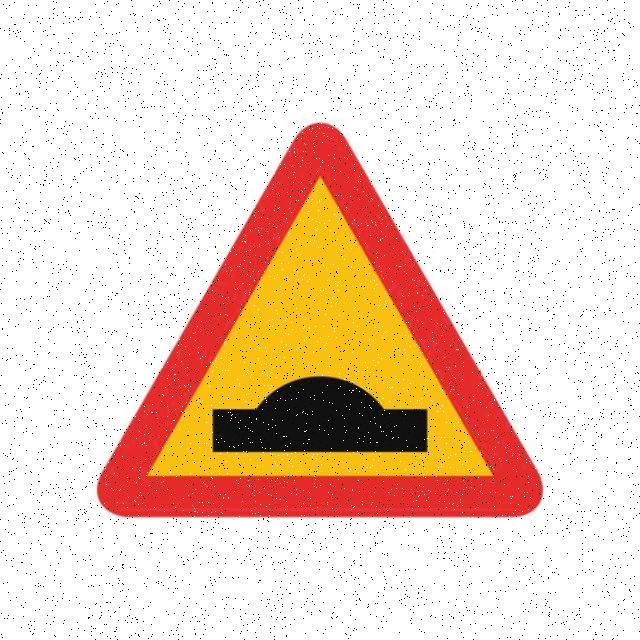Bump: (100, 123, 539, 511)
